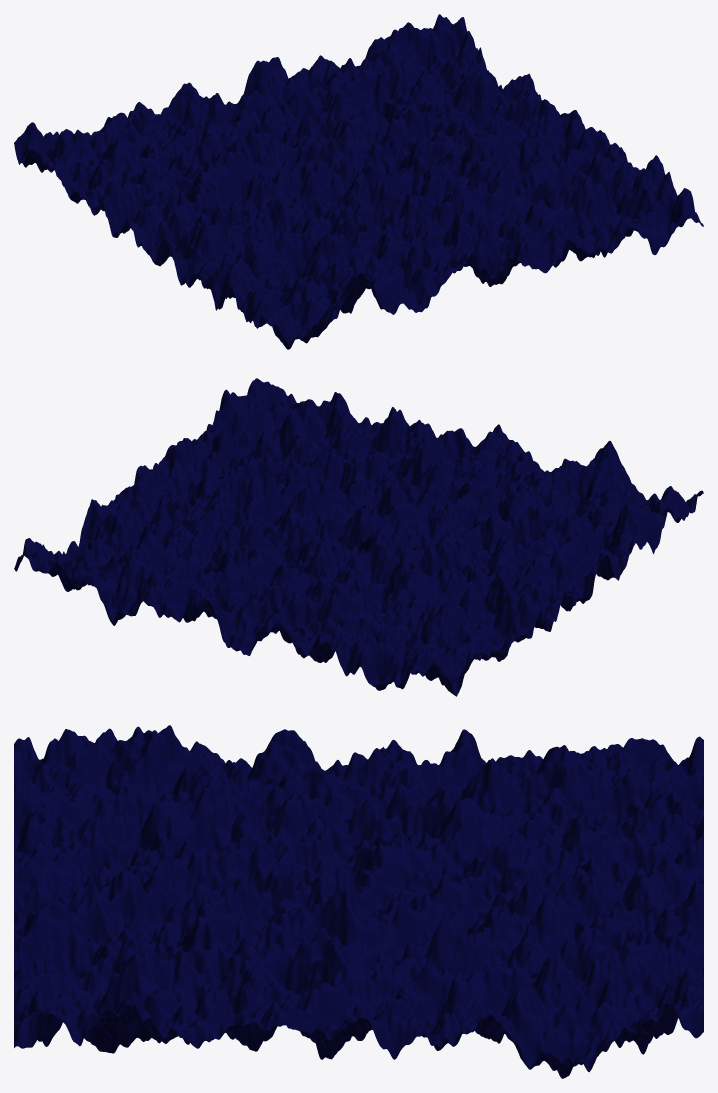
File: TerrainTest.fbx
3 views of the same model, one above another, from view 1: azimuth 30°, elevation 25°; view 2: azimuth 150°, elevation 25°; view 3: azimuth 270°, elevation 25° (orthographic). The views are drawn at different scales.
Parts seen in each view (by area): view 1: Plane; view 2: Plane; view 3: Plane.
Boxes of the visible parts, <box> form: Plane: <box>14,14,703,349</box>; Plane: <box>14,378,703,696</box>; Plane: <box>14,725,703,1078</box>.
Size of the model in its own units: 2035 by 316 by 2035.
